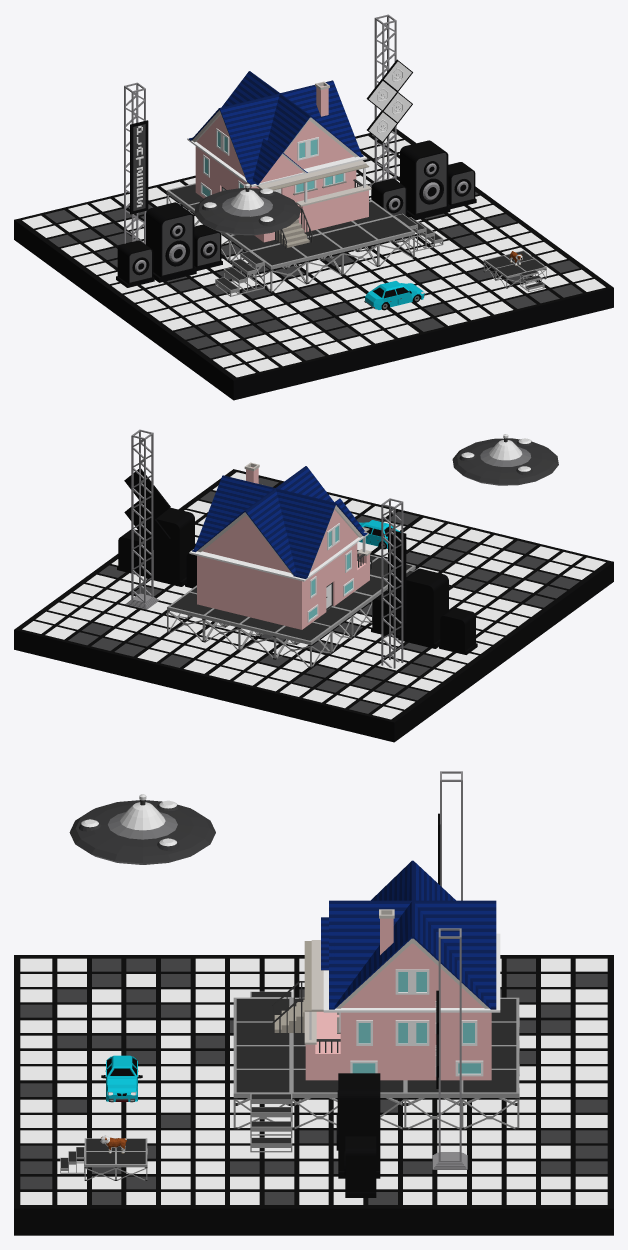
The picture shows the model from 3 angles, top to bottom: view 1: azimuth 30°, elevation 25°; view 2: azimuth 150°, elevation 25°; view 3: azimuth 270°, elevation 25°; orthographic projection. The views are drawn at different scales.
Parts seen in each view (by area): view 1: Cube.008, Cube.313, OBJRANDOM_UFO, VEHICLES_CAR; view 2: Cube.008, Cube.313, OBJRANDOM_UFO, VEHICLES_CAR; view 3: Cube.008, Cube.313, OBJRANDOM_UFO, VEHICLES_CAR.
Part boxes in pixels (x1=…): Cube.008: x1=14, y1=14, x2=613, y2=400; Cube.313: x1=187, y1=71, x2=371, y2=248; OBJRANDOM_UFO: x1=194, y1=183, x2=300, y2=235; VEHICLES_CAR: x1=364, y1=281, x2=424, y2=310; Cube.008: x1=14, y1=429, x2=613, y2=742; Cube.313: x1=189, y1=462, x2=372, y2=629; OBJRANDOM_UFO: x1=452, y1=434, x2=558, y2=485; VEHICLES_CAR: x1=359, y1=520, x2=400, y2=549; Cube.008: x1=14, y1=771, x2=613, y2=1235; Cube.313: x1=272, y1=860, x2=500, y2=1080; OBJRANDOM_UFO: x1=69, y1=794, x2=215, y2=864; VEHICLES_CAR: x1=101, y1=1055, x2=142, y2=1102.
Size of the model in its own units: 4000 by 1950 by 4000.
45 materials, 1 textured.
